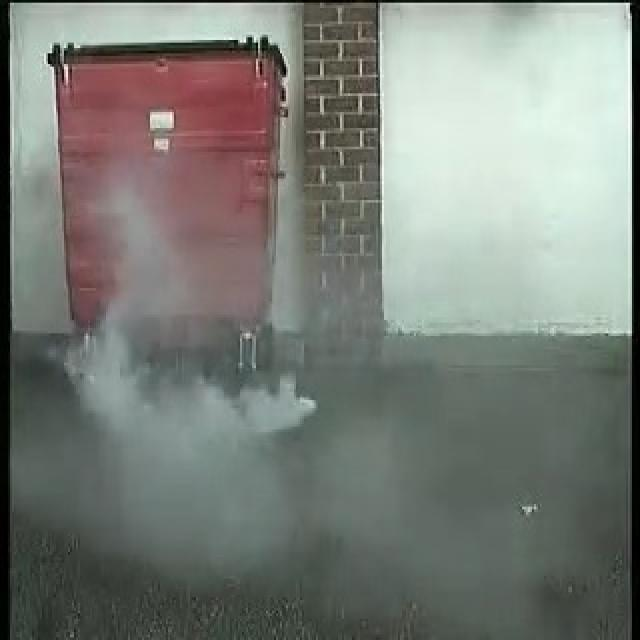smoke: (77, 339, 317, 444)
